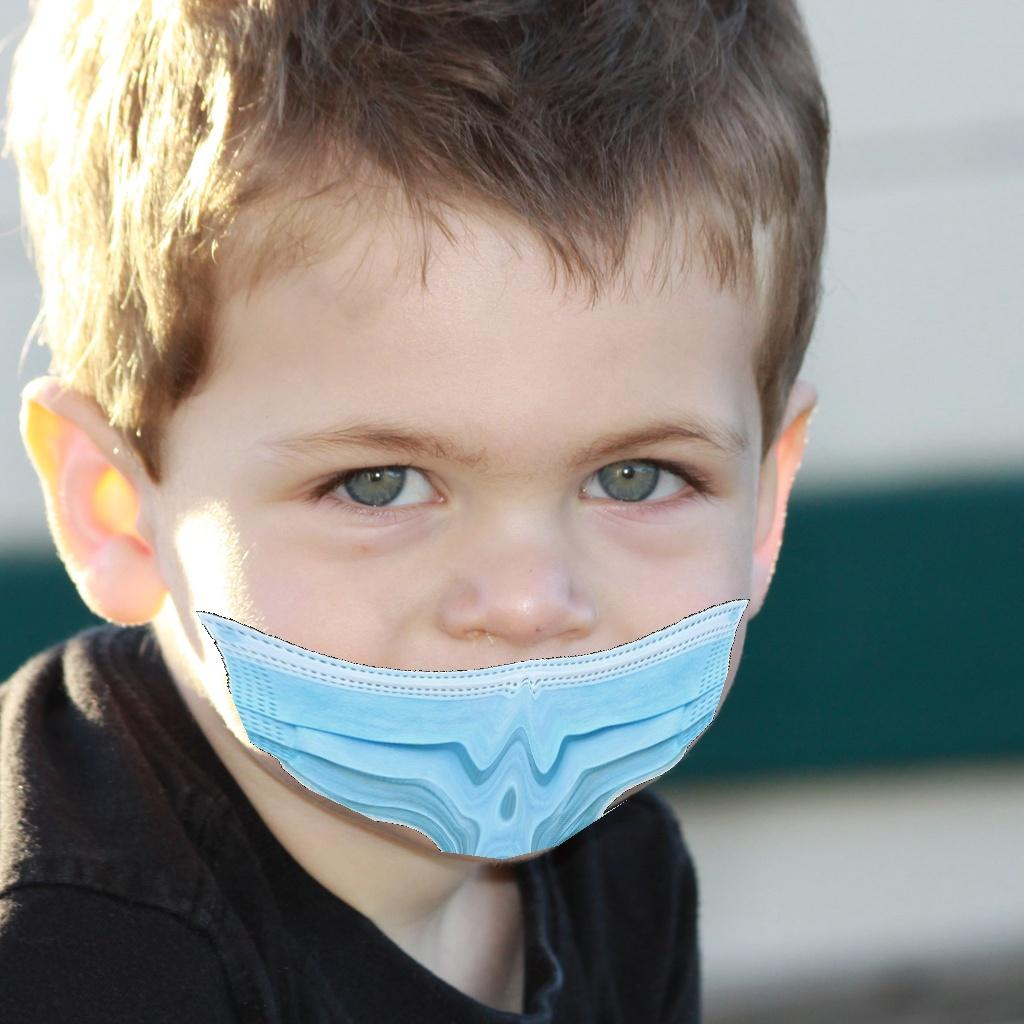Máscara Incorreta: (184, 258, 776, 870)
